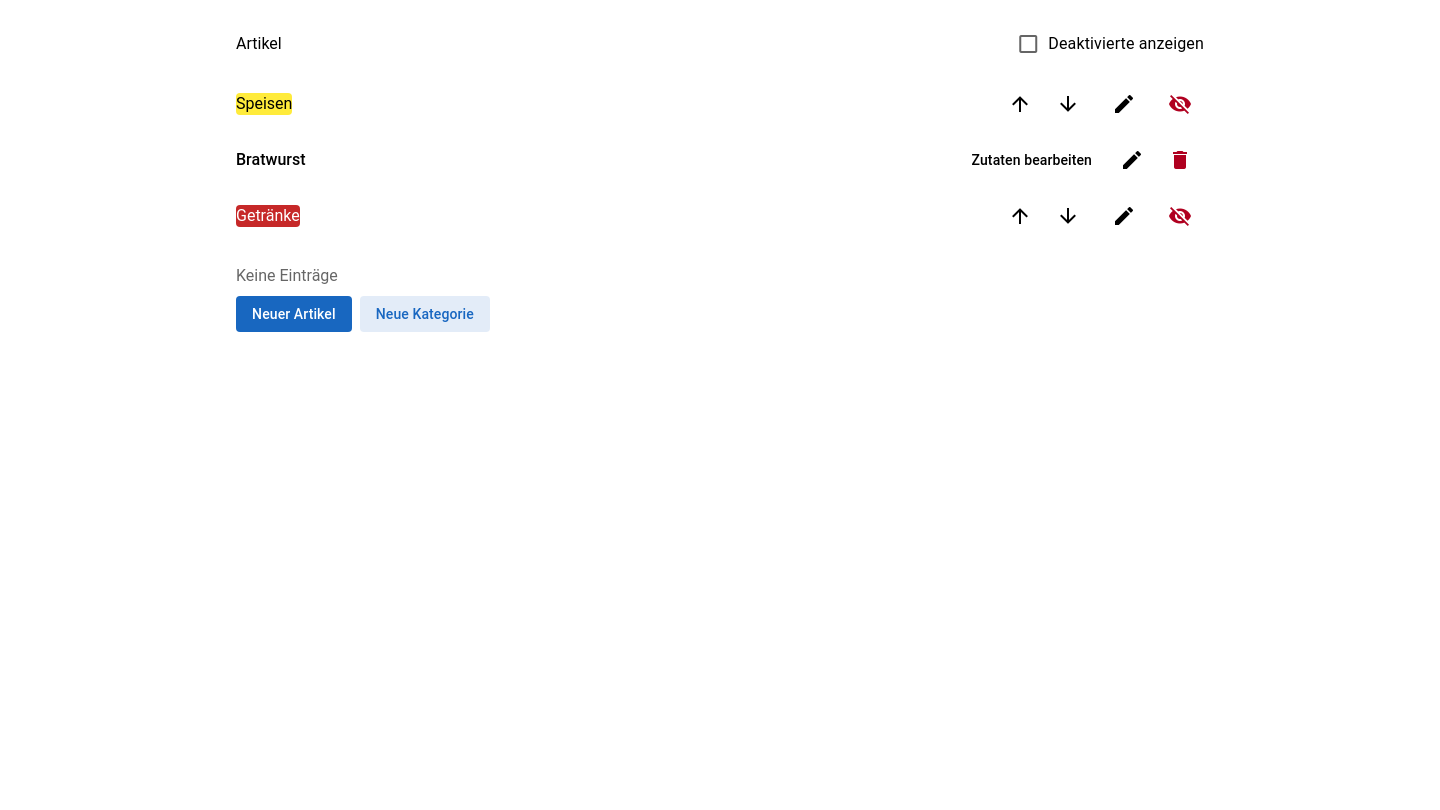
adding an item › asks for the item in a dialog instead of on the page
Click the button with test id "new-item". click: [294, 314]
box: [236,296,352,332]
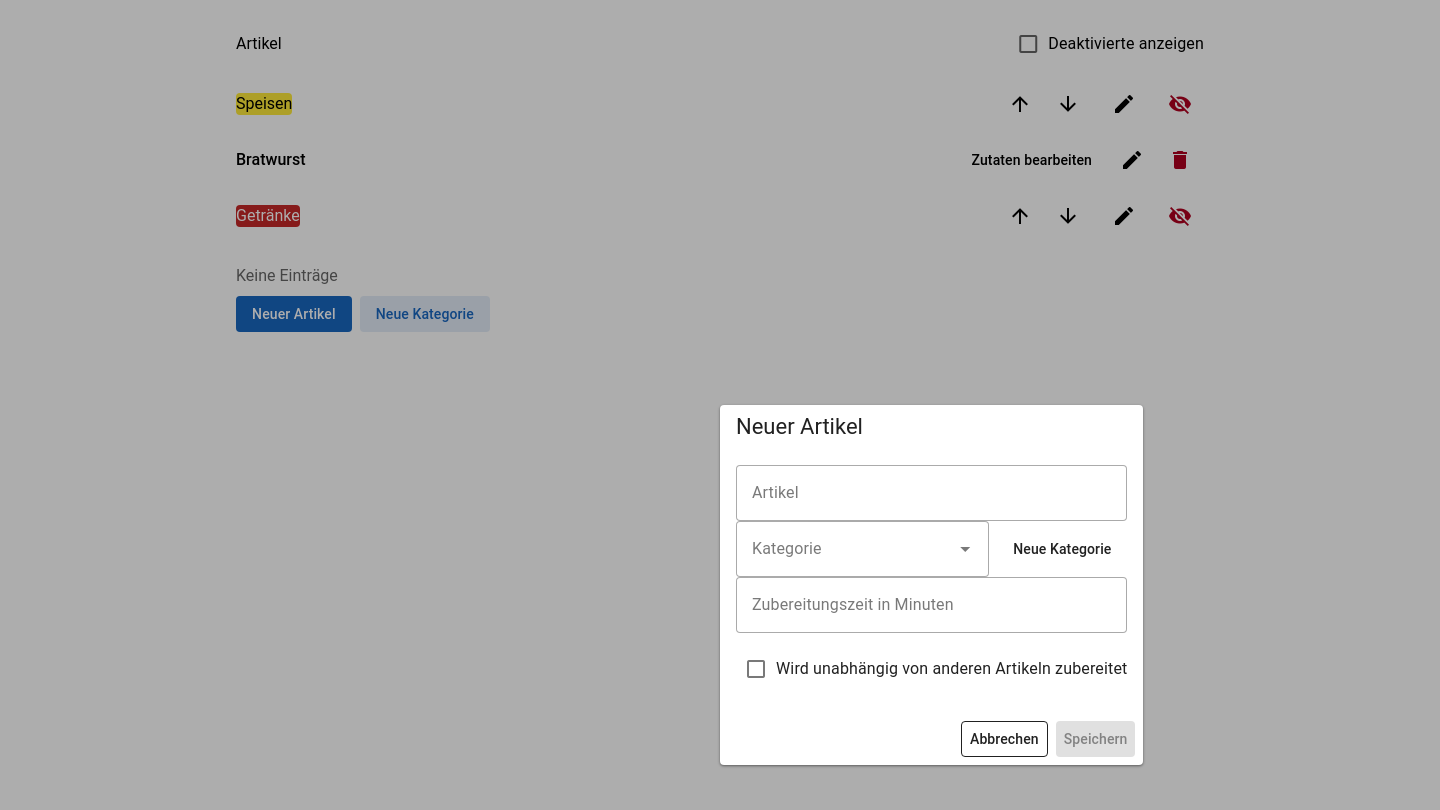
expect the element with test id "form-dialog" is shown: met, box [720,405,1143,765]
